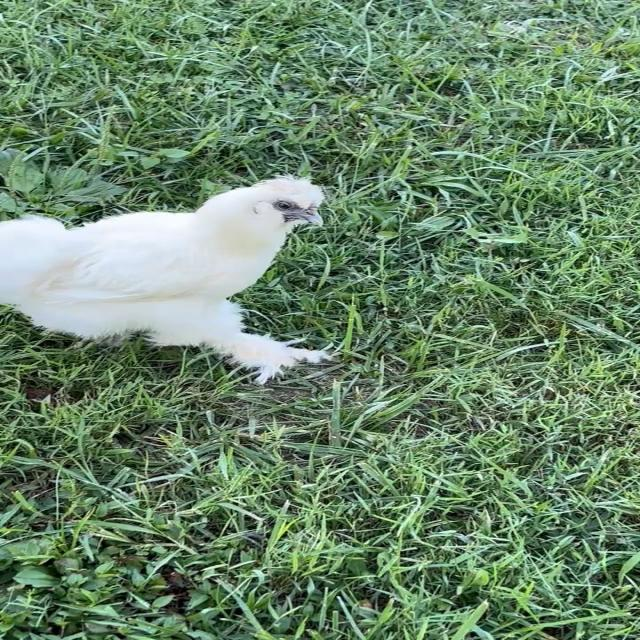menacing: (0, 151, 346, 381)
